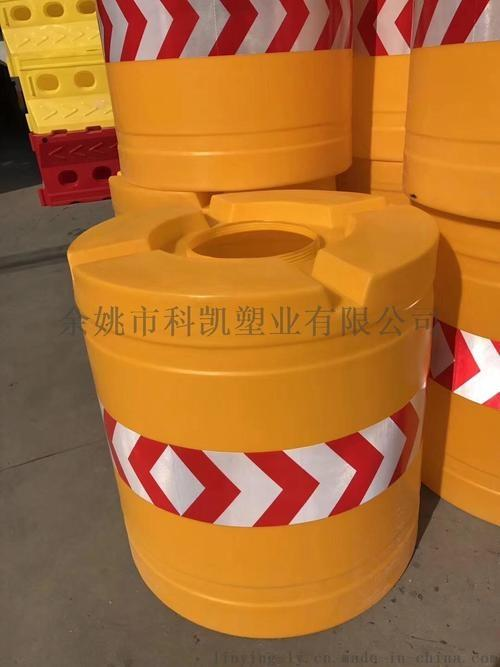cone_barrel: (72, 184, 429, 627), (96, 0, 350, 186), (400, 0, 495, 227)
